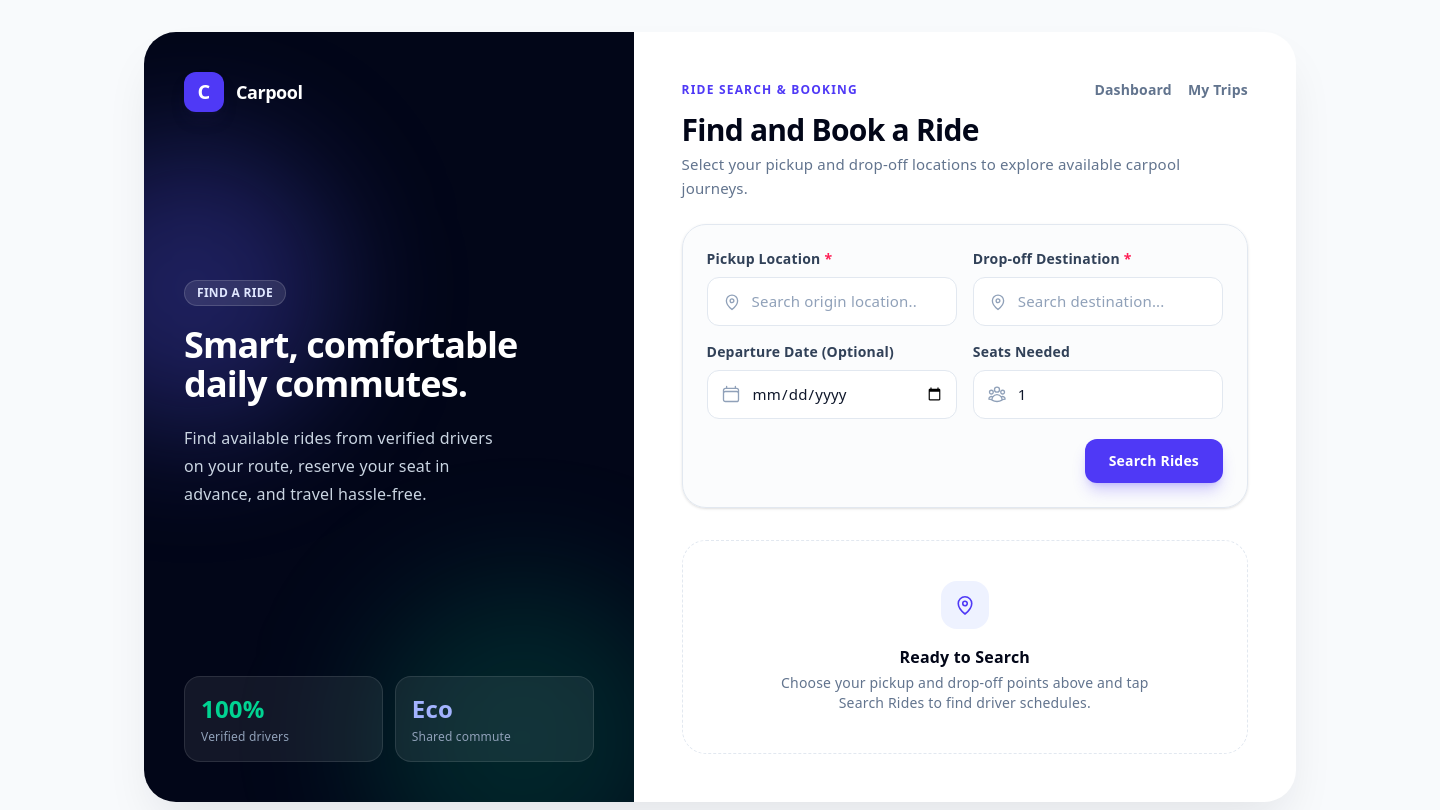
Test case: BookRidePage › displays empty state when no rides are available
The image size is (1440, 810).
# Select source & destination
Click the dropdown with placeholder "Search origin location...". click: (832, 302)
box: [708,278,956,325]
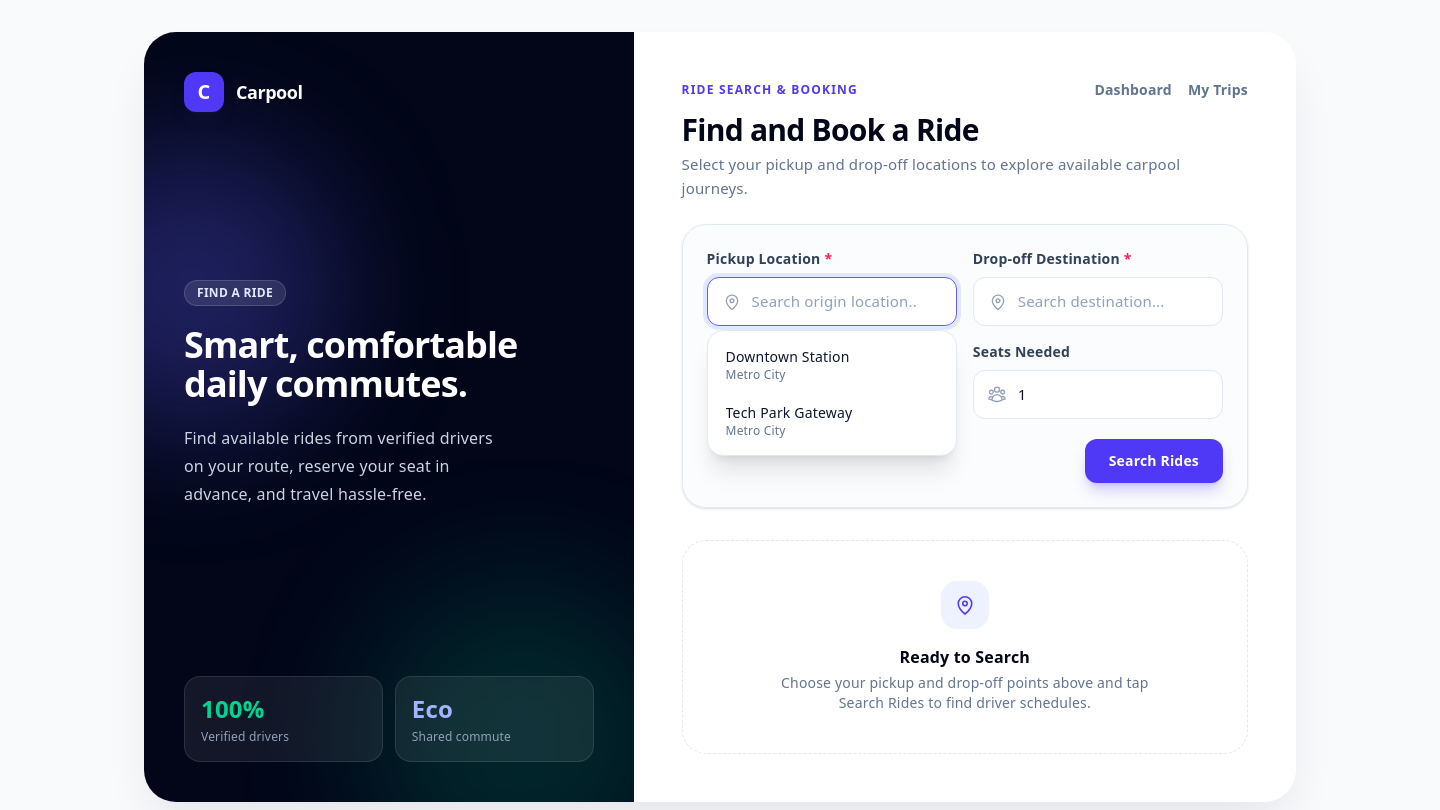
Click the text "Downtown Station". click: (788, 357)
box: [726,347,850,367]
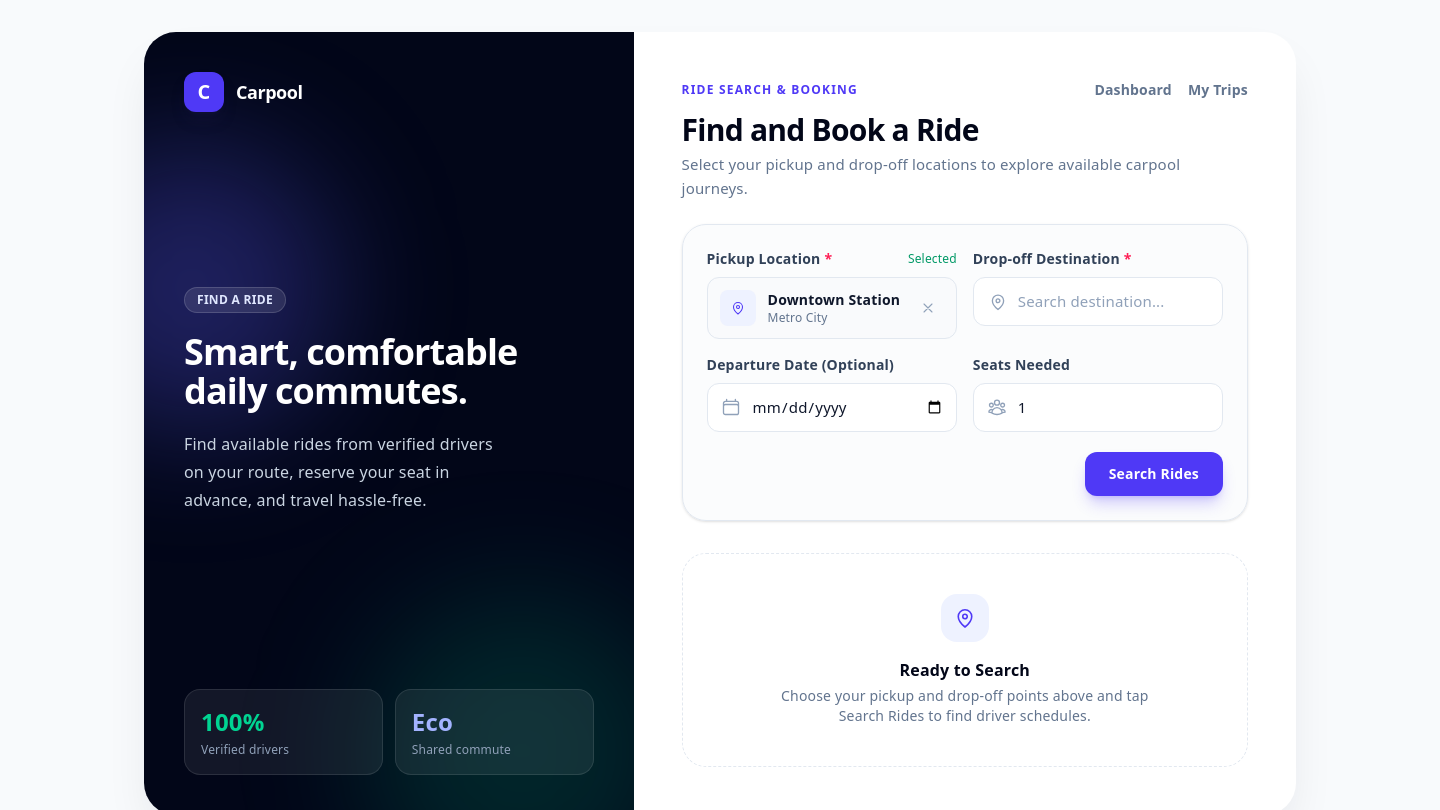
Click the dropdown with placeholder "Search destination...". click: (1098, 302)
box: [974,278,1222,325]
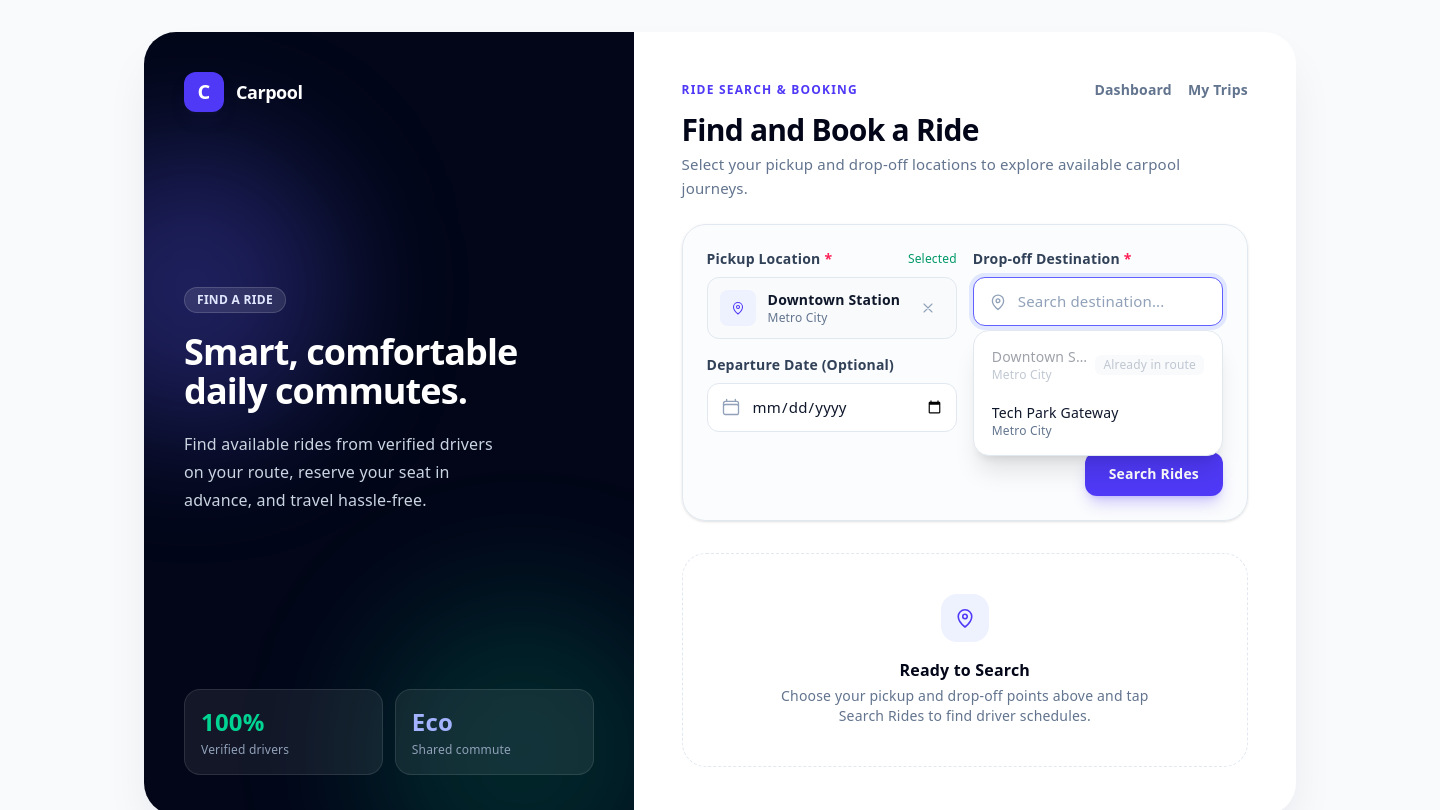
Click the text "Tech Park Gateway". click: (1055, 413)
box: [992,403,1118,423]
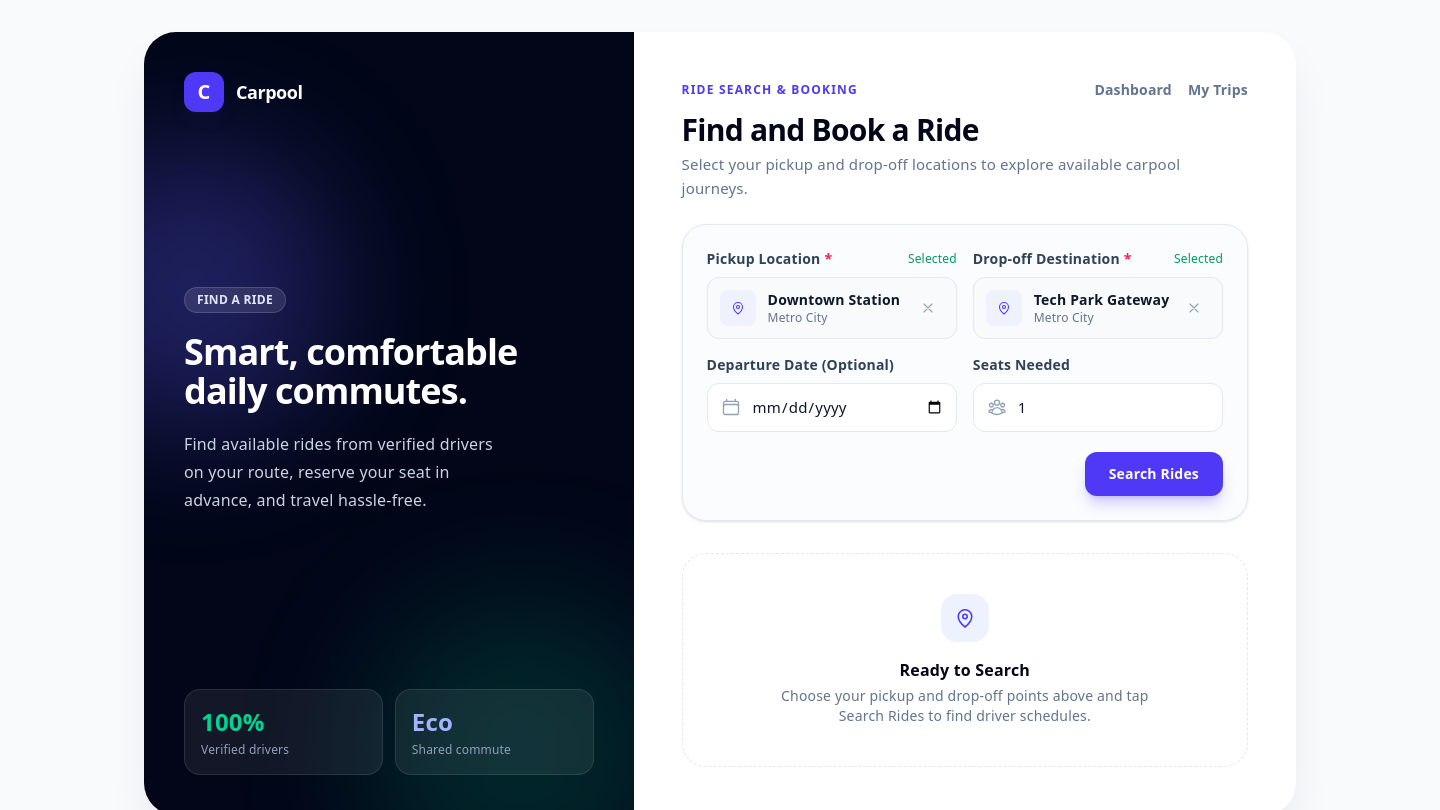
Click the button "Search Rides". click: (1154, 474)
box: [1085,452,1223,496]
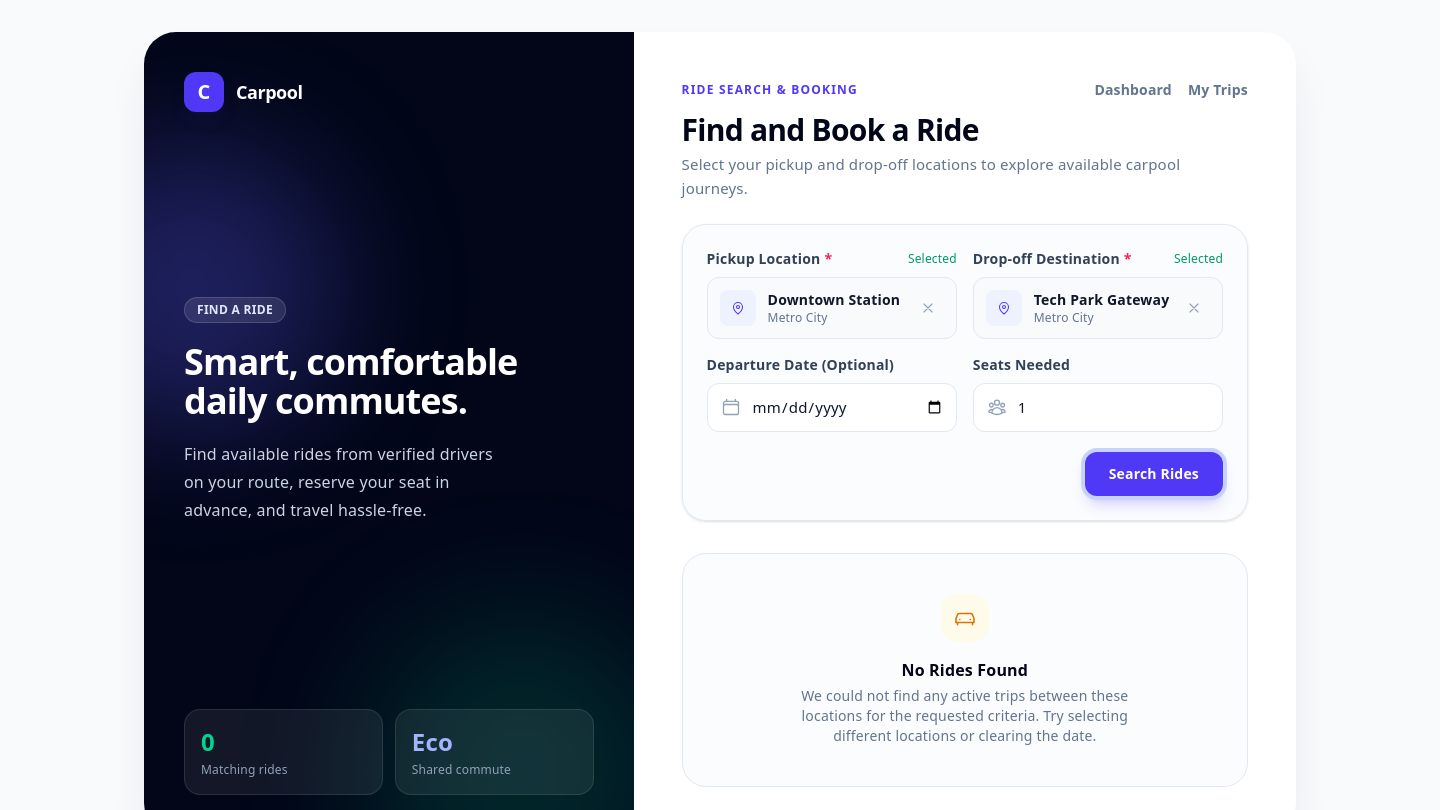
Expected: the heading "No Rides Found" is shown, [902,658,1028,682]
